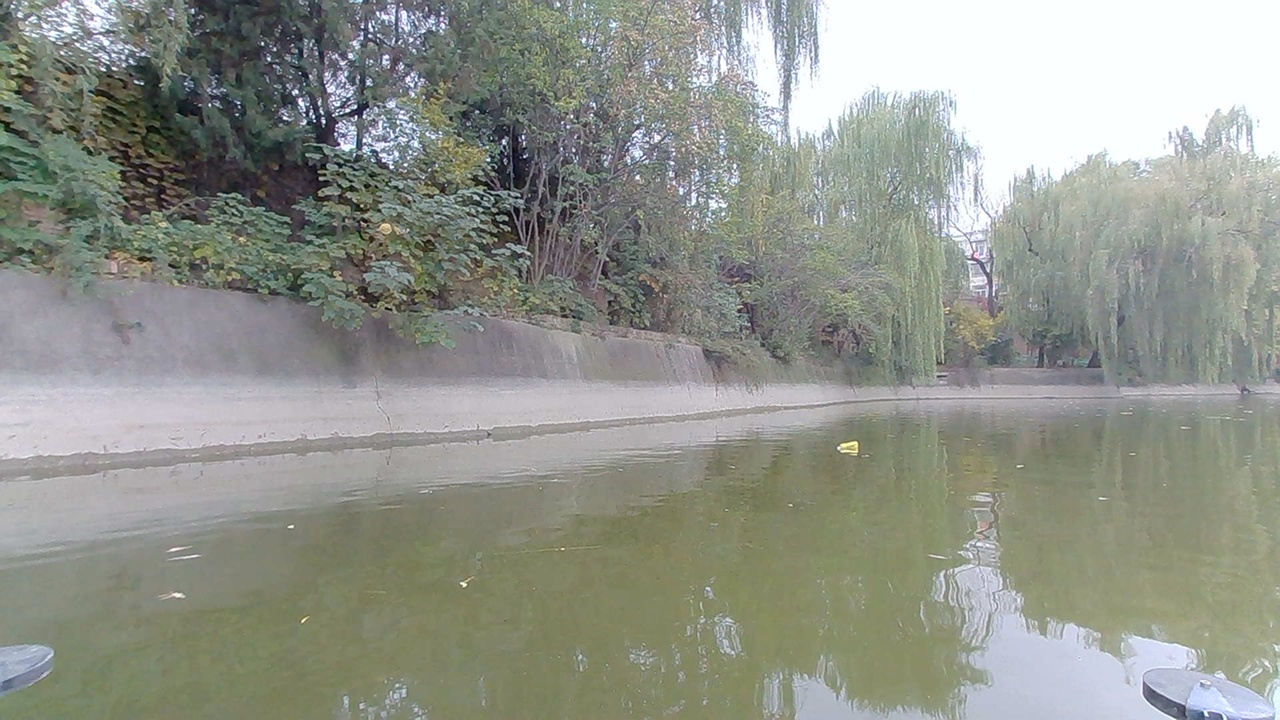bottle: (833, 437, 867, 460)
